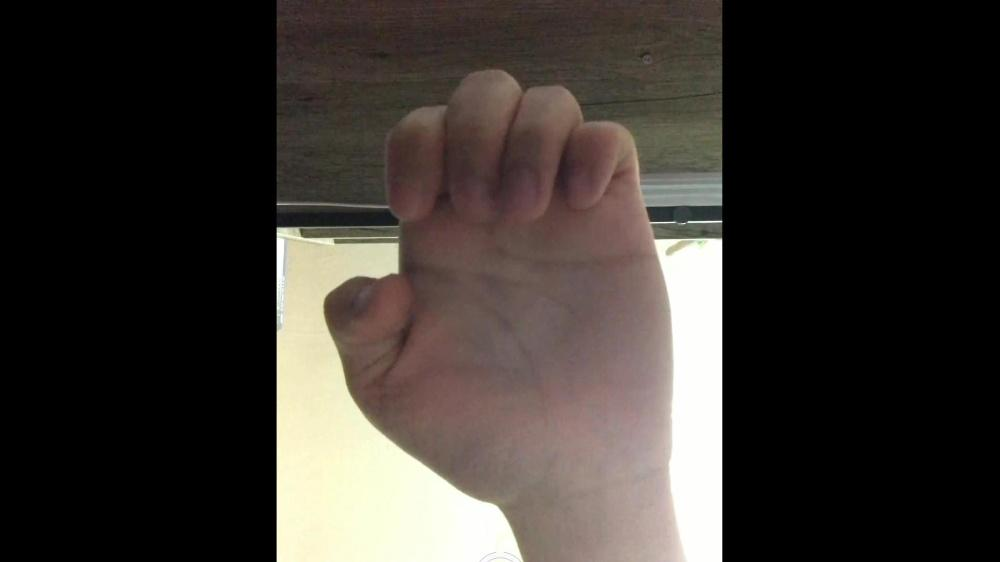e: (321, 68, 675, 495)
